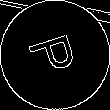P_E: (25, 29, 85, 81)
